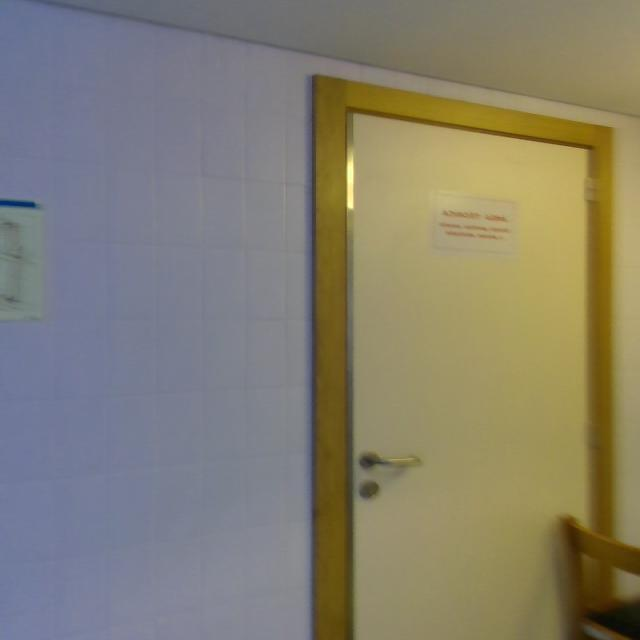door: (304, 79, 618, 640)
